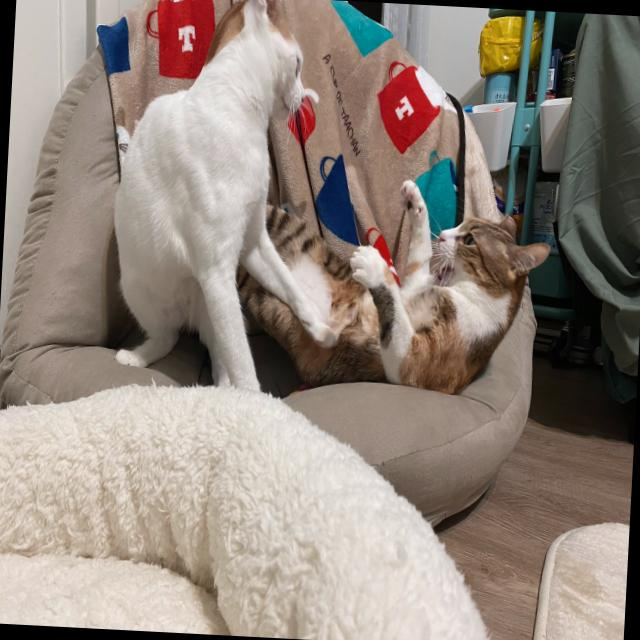cat1: (110, 0, 309, 394)
cat2: (232, 195, 541, 398)
